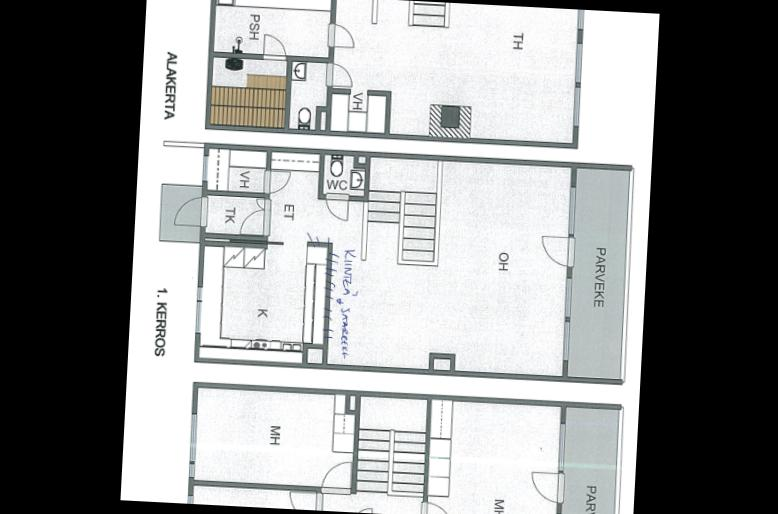door: (171, 194, 209, 236), (536, 232, 578, 270), (525, 468, 566, 506), (318, 456, 354, 499), (236, 209, 271, 239), (323, 60, 354, 92), (324, 20, 356, 51), (260, 30, 288, 62), (262, 167, 290, 198), (284, 489, 322, 511), (322, 192, 347, 222), (420, 498, 453, 514), (348, 505, 374, 514)
window: (558, 184, 578, 237), (184, 408, 198, 464), (554, 420, 567, 474), (570, 40, 584, 86), (558, 276, 572, 322), (556, 320, 570, 364), (568, 85, 581, 130), (571, 9, 586, 33), (198, 152, 209, 184), (192, 301, 202, 335), (193, 282, 202, 303), (184, 462, 194, 480), (184, 491, 194, 504), (549, 508, 561, 514)
